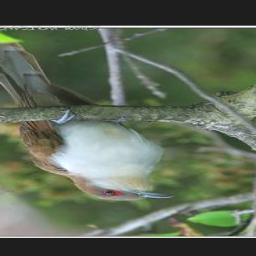Cuckoo: (0, 30, 177, 202)
